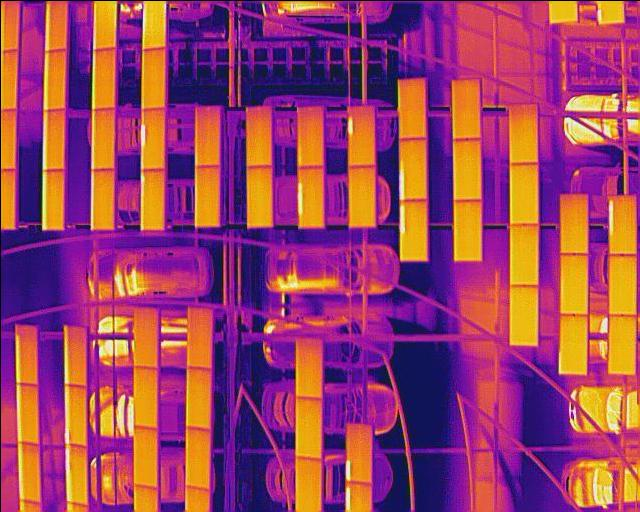Cell: (140, 170, 164, 230)
No-Anomaly: (449, 78, 481, 137), (556, 314, 587, 374), (395, 76, 425, 137), (508, 285, 538, 346), (451, 139, 481, 200), (507, 103, 537, 163), (294, 395, 322, 459), (607, 254, 636, 315), (508, 163, 537, 224), (294, 336, 322, 399), (452, 200, 481, 260), (508, 224, 537, 284), (558, 193, 587, 253), (606, 315, 635, 374), (559, 253, 587, 314), (347, 166, 375, 227), (186, 304, 212, 369), (183, 426, 209, 490), (131, 424, 157, 488), (296, 105, 323, 166), (245, 103, 271, 166), (293, 456, 322, 512), (245, 166, 272, 226), (132, 306, 158, 367), (186, 366, 211, 429), (41, 50, 67, 110), (194, 103, 219, 165), (13, 323, 37, 386), (140, 48, 165, 108), (194, 165, 219, 225), (133, 367, 157, 427), (90, 168, 114, 228), (40, 109, 64, 168), (17, 441, 39, 503), (40, 169, 63, 228), (16, 383, 38, 443), (91, 108, 113, 168), (91, 48, 113, 107), (43, 0, 68, 50), (140, 0, 165, 49), (91, 0, 115, 48)
Unclassified: (397, 200, 427, 259), (605, 195, 635, 254), (344, 421, 373, 482), (397, 138, 426, 199), (347, 103, 375, 166), (296, 166, 323, 226), (140, 108, 164, 169), (62, 324, 85, 387), (63, 384, 85, 446), (64, 443, 85, 504)
